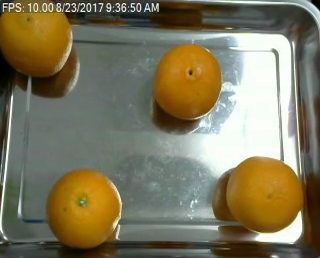Orange: (223, 154, 304, 234), (45, 169, 123, 250), (153, 43, 222, 119), (1, 13, 73, 76)
